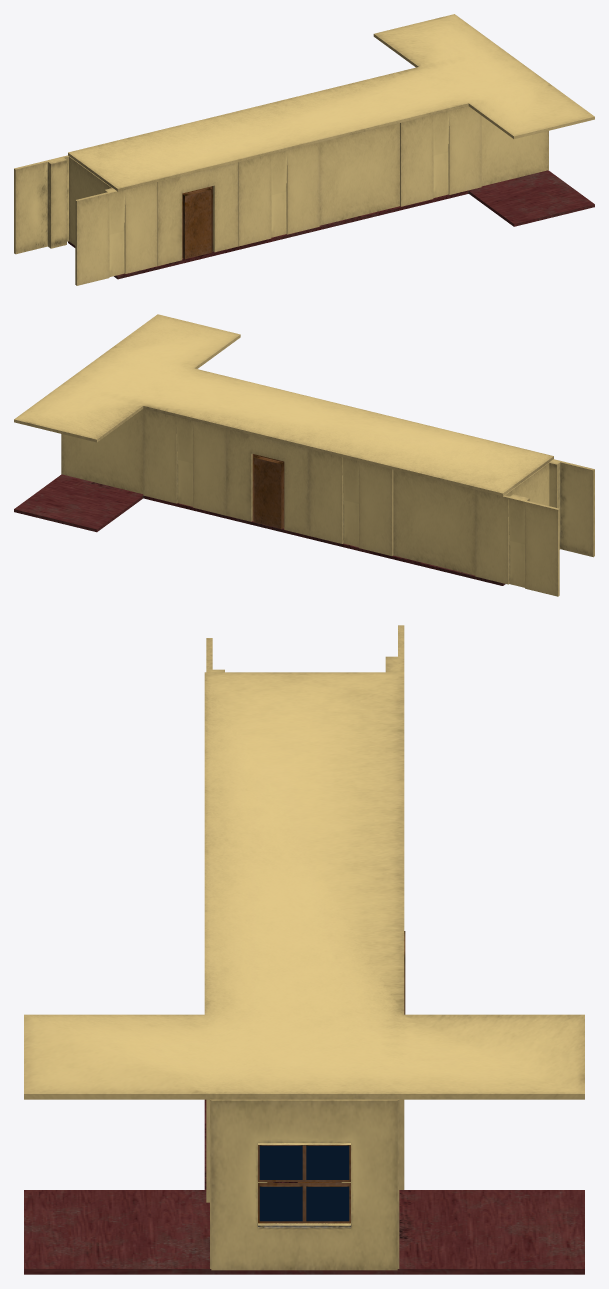
The model's file is scary_interior.glb.
The picture shows the model from 3 angles, top to bottom: view 1: azimuth 30°, elevation 25°; view 2: azimuth 150°, elevation 25°; view 3: azimuth 270°, elevation 25°; orthographic projection. The views are drawn at different scales.
Visible parts, largest first — view 1: Plane.001, Cube.014, Cube.005, Cube.011, Cube.013, Cube.009, Plane, Cube.006, Cube.008, Cube.007; view 2: Plane.001, Cube.006, Cube, Cube.003, Cube.002, Cube.001, Plane, Cube.010, Cube.014, Cube.007; view 3: Plane.001, Plane, Cube.012.
Boxes of the visible parts, x1=… form: Plane.001: x1=68, y1=14, x2=594, y2=191; Cube.014: x1=75, y1=182, x2=157, y2=285; Cube.005: x1=238, y1=142, x2=319, y2=246; Cube.011: x1=157, y1=162, x2=238, y2=265; Cube.013: x1=400, y1=106, x2=481, y2=206; Cube.009: x1=319, y1=123, x2=399, y2=225; Plane: x1=68, y1=170, x2=594, y2=279; Cube.006: x1=14, y1=155, x2=68, y2=254; Cube.008: x1=481, y1=116, x2=548, y2=186; Cube.007: x1=69, y1=156, x2=111, y2=245; Plane.001: x1=14, y1=314, x2=553, y2=496; Cube.006: x1=475, y1=489, x2=559, y2=596; Cube: x1=309, y1=449, x2=393, y2=555; Cube.003: x1=143, y1=408, x2=226, y2=515; Cube.002: x1=226, y1=429, x2=309, y2=535; Cube.001: x1=393, y1=469, x2=475, y2=575; Plane: x1=14, y1=474, x2=505, y2=585; Cube.010: x1=61, y1=409, x2=143, y2=493; Cube.014: x1=549, y1=459, x2=594, y2=557; Cube.007: x1=505, y1=463, x2=549, y2=505; Plane.001: x1=24, y1=672, x2=584, y2=1099; Plane: x1=24, y1=1099, x2=584, y2=1274; Cube.012: x1=211, y1=1099, x2=397, y2=1270.
Size of the model in its own units: 14.97 by 2.65 by 7.45.
Materials: 3 (1 with a texture image).
